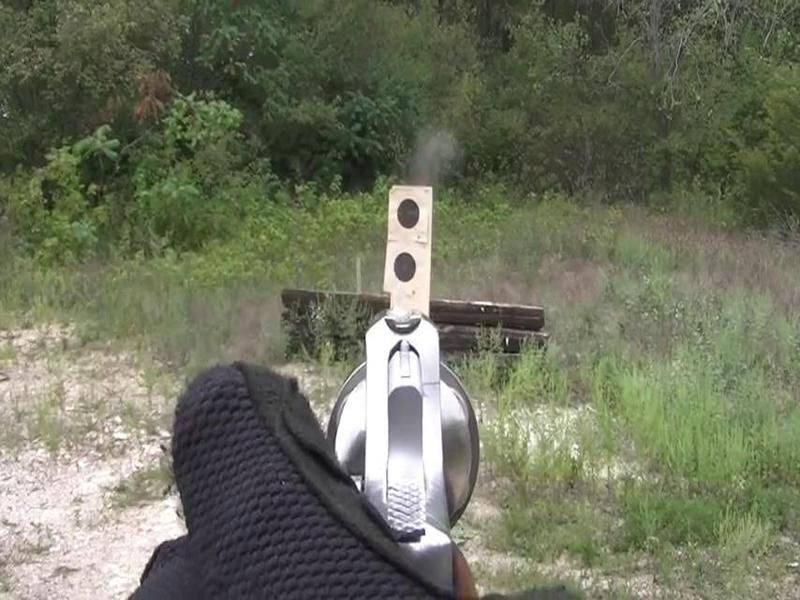Revolver: (308, 284, 495, 562)
